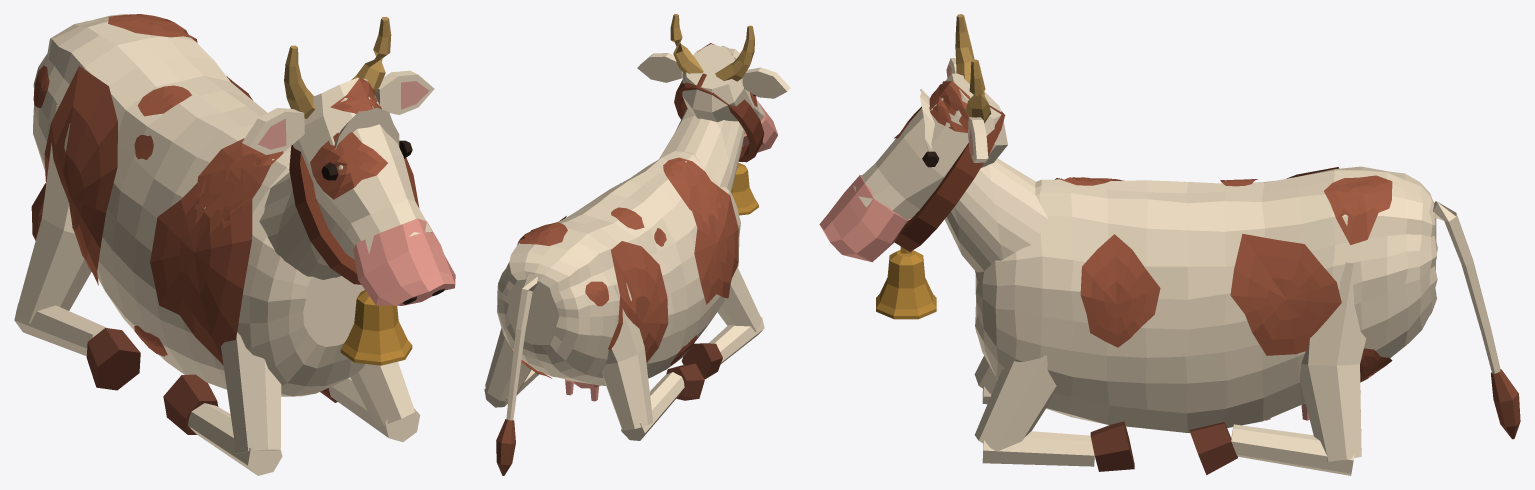
File: cow-rest.glb
The picture shows the model from 3 angles, left to right: view 1: azimuth 30°, elevation 25°; view 2: azimuth 150°, elevation 25°; view 3: azimuth 270°, elevation 25°; orthographic projection. The views are drawn at different scales.
Parts seen in each view (by area): view 1: body, body_patches, head, muzzle, leg_hl_upper, neck, leg_fl_upper, head_patches, bell, collar, leg_fr_upper, leg_hl_hoof (+11 smaller); view 2: body, body_patches, leg_hl_upper, neck, head, collar, leg_hr_upper, leg_fl_upper, tail, leg_hl_lower, ear_r, leg_fl_lower (+10 smaller); view 3: body, body_patches, leg_hr_upper, neck, head, leg_fr_upper, muzzle, leg_hr_lower, collar, bell, leg_fr_lower, tail (+7 smaller).
Part boxes in pixels (x1=…): body: x1=33, y1=14, x2=364, y2=396; body_patches: x1=33, y1=14, x2=283, y2=365; head: x1=293, y1=77, x2=432, y2=253; muzzle: x1=353, y1=218, x2=455, y2=305; leg_hl_upper: x1=16, y1=105, x2=91, y2=323; neck: x1=259, y1=107, x2=399, y2=279; leg_fl_upper: x1=221, y1=332, x2=281, y2=453; head_patches: x1=310, y1=77, x2=387, y2=199; bell: x1=340, y1=290, x2=412, y2=365; collar: x1=289, y1=145, x2=419, y2=284; leg_fr_upper: x1=350, y1=361, x2=414, y2=426; leg_hl_hoof: x1=86, y1=328, x2=140, y2=390; body: x1=497, y1=150, x2=740, y2=385; body_patches: x1=511, y1=157, x2=738, y2=378; leg_hl_upper: x1=601, y1=284, x2=652, y2=430; neck: x1=659, y1=46, x2=744, y2=191; head: x1=682, y1=44, x2=766, y2=133; collar: x1=674, y1=73, x2=764, y2=162; leg_hr_upper: x1=485, y1=328, x2=531, y2=401; leg_fl_upper: x1=717, y1=267, x2=761, y2=332; tail: x1=506, y1=273, x2=537, y2=420; leg_hl_lower: x1=621, y1=372, x2=684, y2=440; ear_r: x1=742, y1=67, x2=790, y2=98; leg_fl_lower: x1=709, y1=316, x2=764, y2=363; body: x1=975, y1=166, x2=1437, y2=432; body_patches: x1=1055, y1=167, x2=1392, y2=382; leg_hr_upper: x1=1299, y1=262, x2=1366, y2=461; neck: x1=920, y1=89, x2=1048, y2=272; head: x1=853, y1=73, x2=1007, y2=219; leg_fr_upper: x1=975, y1=355, x2=1056, y2=451; muzzle: x1=819, y1=175, x2=911, y2=262; leg_hr_lower: x1=1231, y1=424, x2=1354, y2=475; collar: x1=894, y1=105, x2=1005, y2=251; bell: x1=876, y1=246, x2=936, y2=319; leg_fr_lower: x1=982, y1=431, x2=1094, y2=466; tail: x1=1433, y1=201, x2=1500, y2=373.
Bounding box in the file's own units: 0.8461 × 1.51 × 2.39.
